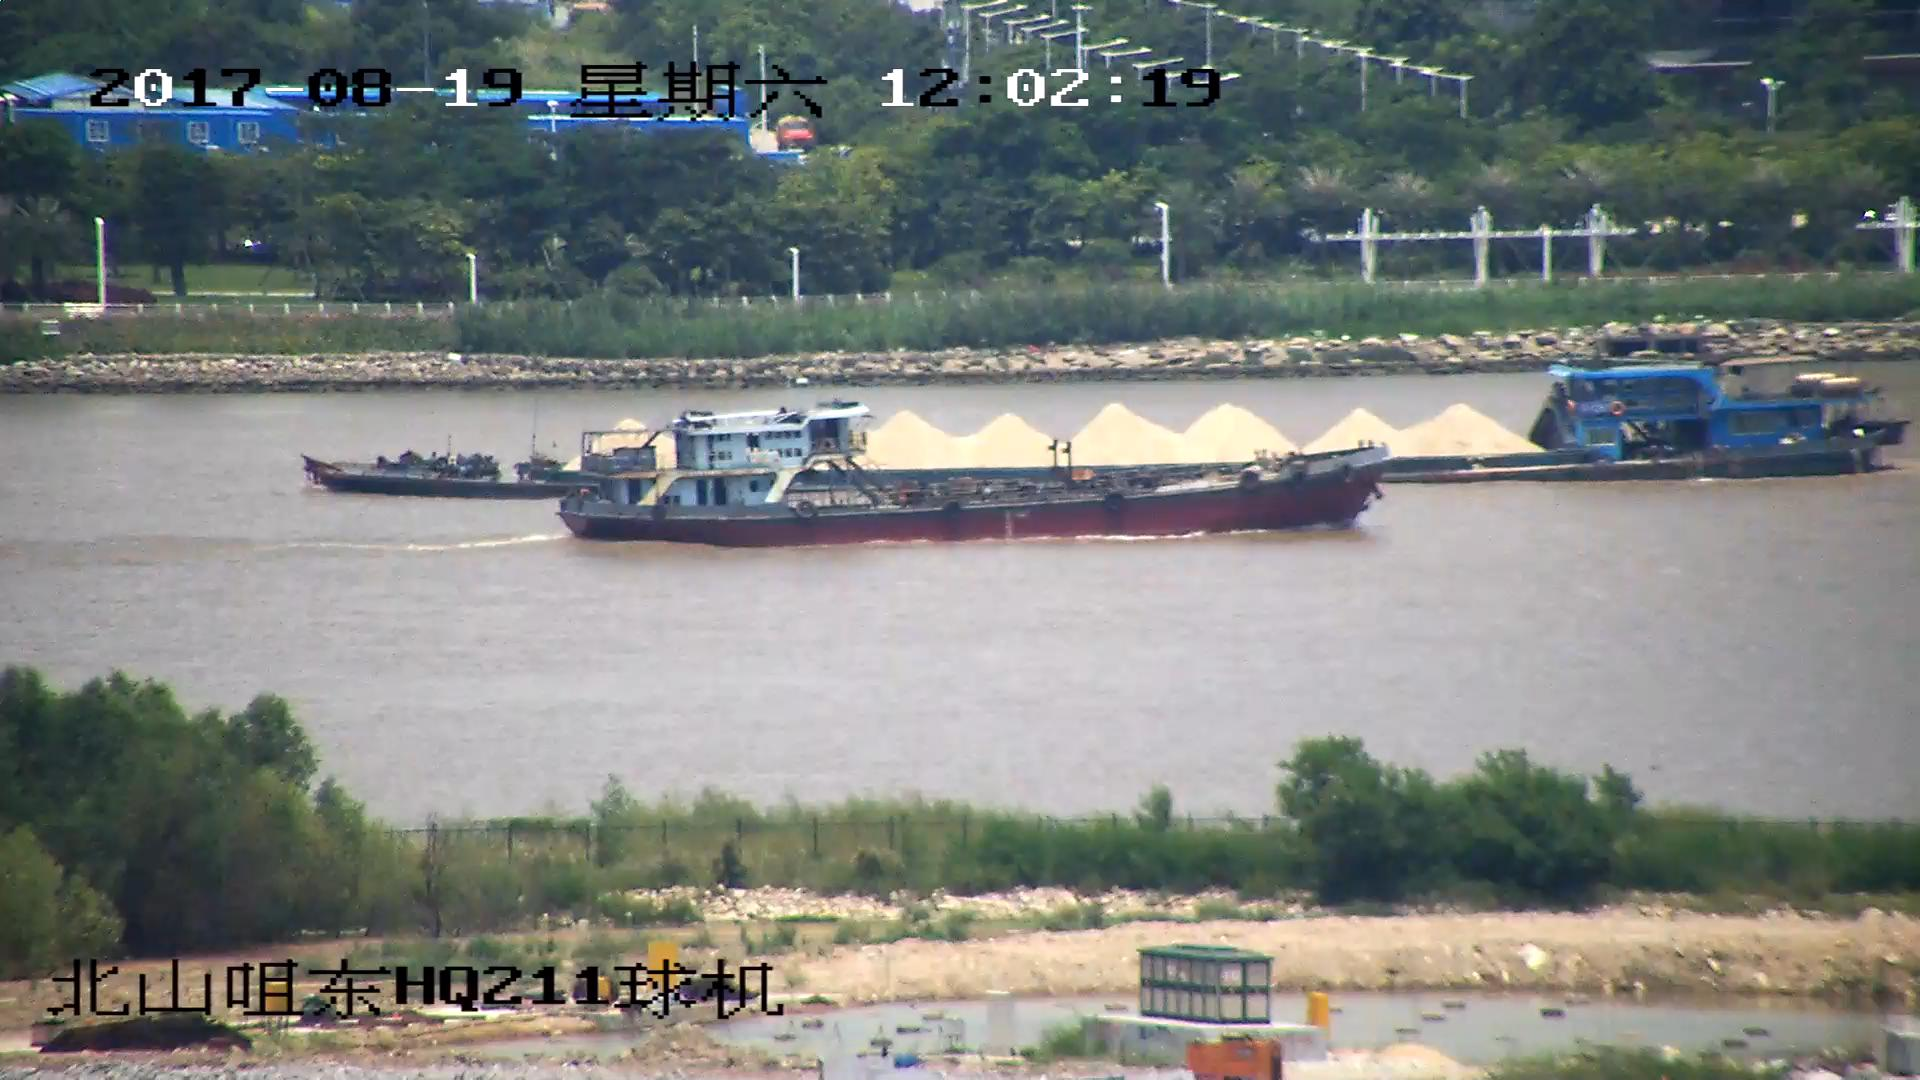bulk cargo carrier: (562, 416, 1391, 548)
ore carrier: (296, 364, 1907, 496)
